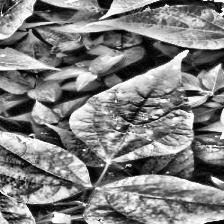Bean Rust: (80, 51, 196, 166), (0, 118, 94, 202), (0, 139, 36, 224), (0, 43, 55, 74)
